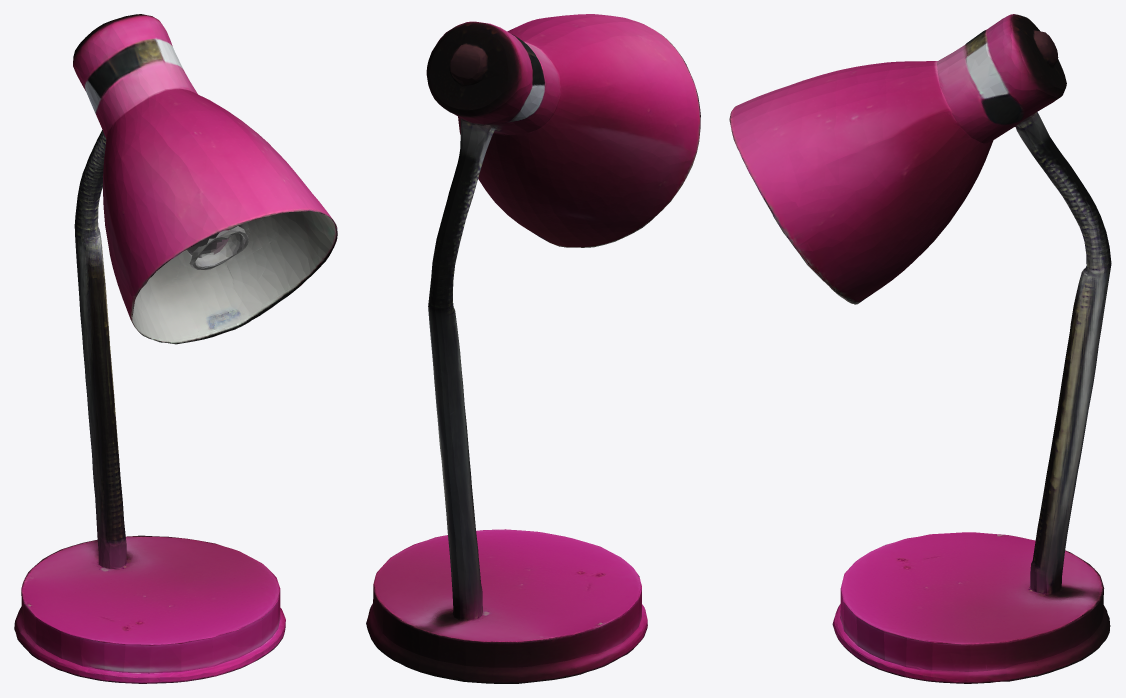
3 views of the same model, side by side, from view 1: azimuth 30°, elevation 25°; view 2: azimuth 150°, elevation 25°; view 3: azimuth 270°, elevation 25° (orthographic). The views are drawn at different scales.
Parts seen in each view (by area): view 1: world; view 2: world; view 3: world.
Boxes of the visible parts, x1,y1,x2,y2 form: world: [14, 14, 337, 683]; world: [366, 14, 700, 683]; world: [729, 14, 1111, 683].
Bounding box in the file's own units: 0.4129 × 1 × 0.5718.
1 material, 1 textured.
